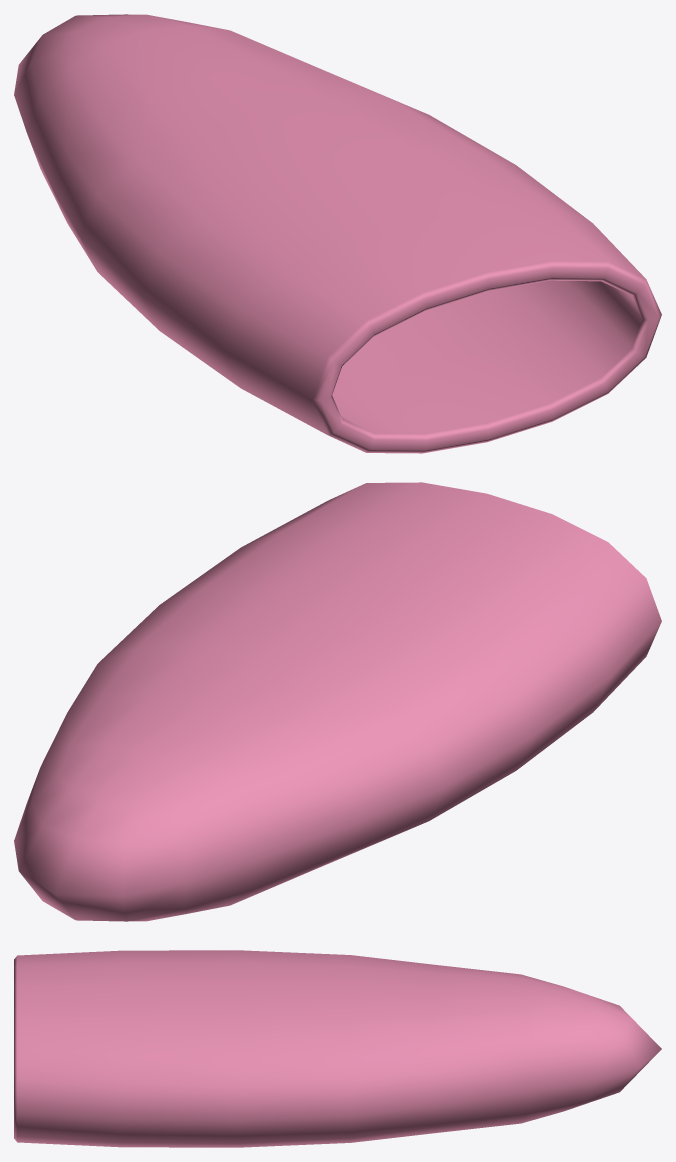
Rendered from Squid_1_Fillet_1.fbx.
3 views of the same model, one above another, from view 1: azimuth 30°, elevation 25°; view 2: azimuth 150°, elevation 25°; view 3: azimuth 270°, elevation 25° (orthographic). The views are drawn at different scales.
Visible parts, largest first — view 1: Squid_1_Fillet_1; view 2: Squid_1_Fillet_1; view 3: Squid_1_Fillet_1.
Boxes of the visible parts, x1=… form: Squid_1_Fillet_1: x1=14, y1=14, x2=661, y2=453; Squid_1_Fillet_1: x1=14, y1=482, x2=661, y2=921; Squid_1_Fillet_1: x1=14, y1=950, x2=661, y2=1147.
Bounding box in the file's own units: 12.91 × 5.35 × 24.73.
